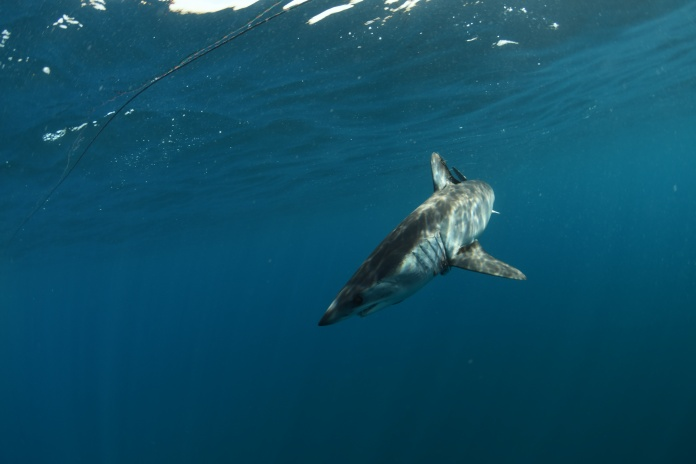Mako: (313, 144, 546, 332)
